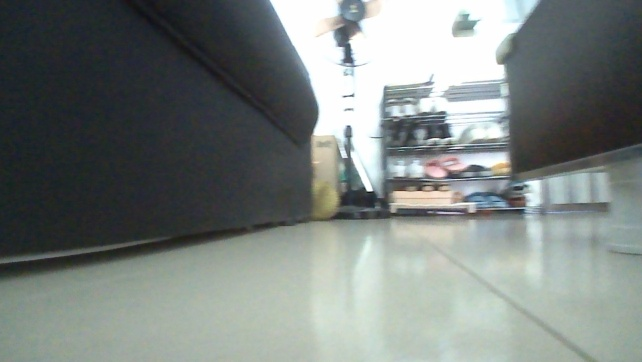sofa1: (0, 0, 323, 258)
tea_table1: (491, 0, 641, 256)
